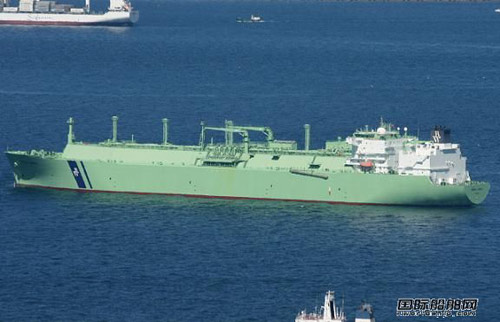Cargoship: (5, 96, 498, 209), (1, 1, 148, 24)
